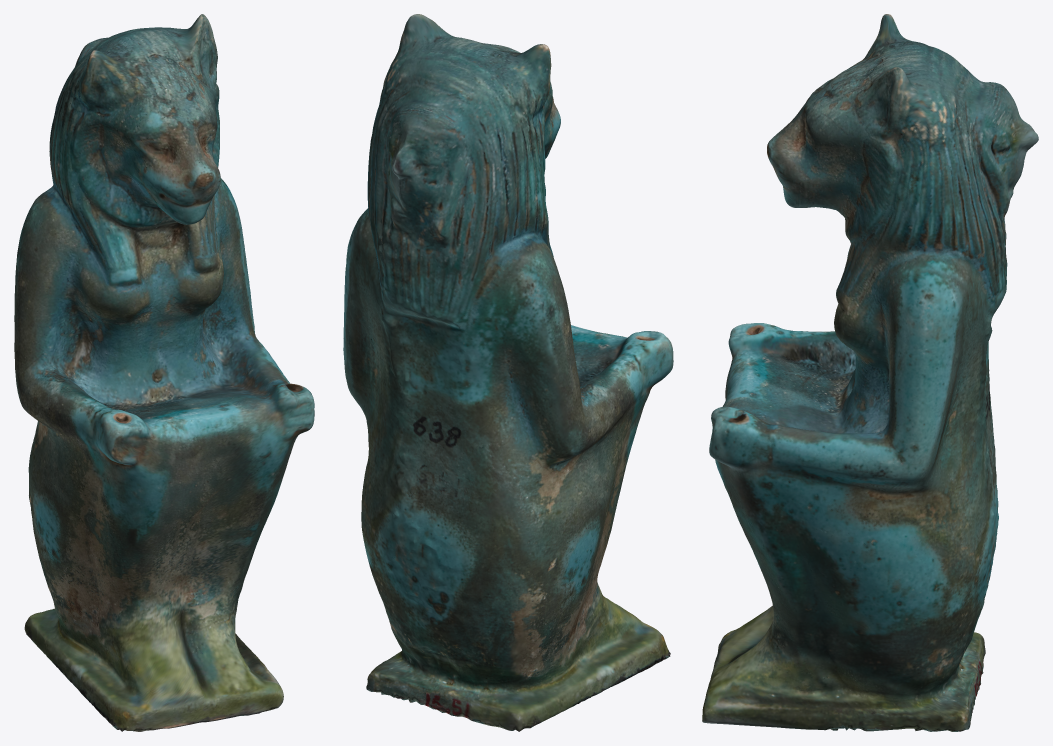
Rendered from preview.glb.
The picture shows the model from 3 angles, left to right: view 1: azimuth 30°, elevation 25°; view 2: azimuth 150°, elevation 25°; view 3: azimuth 270°, elevation 25°; orthographic projection. The views are drawn at different scales.
Visible parts, largest first — view 1: Object_2; view 2: Object_2; view 3: Object_2.
Part boxes in pixels (<box>): Object_2: <box>14,14,314,731</box>; Object_2: <box>343,14,673,731</box>; Object_2: <box>702,14,1038,731</box>.
Bounding box in the file's own units: 0.2795 × 0.7281 × 0.3338.
Materials: 1 (1 with a texture image).
